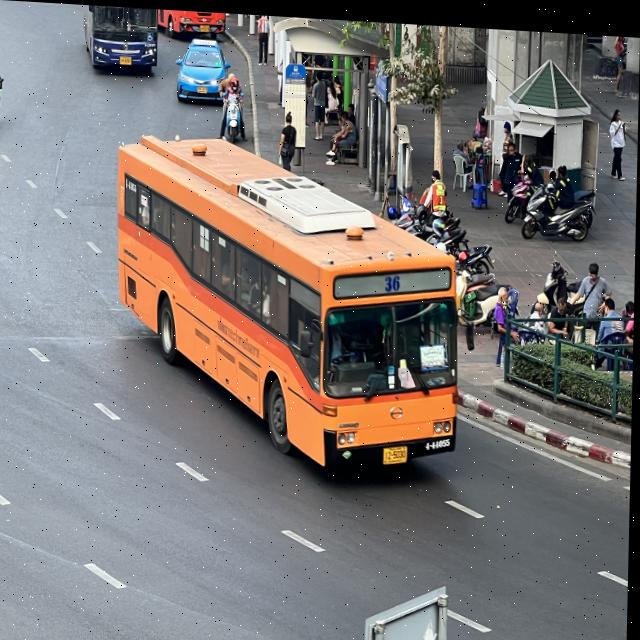BMTA-bus: (116, 135, 461, 466)
Bus Line Number: (384, 267, 406, 290)
Bus Side Number: (427, 428, 454, 447)
Destination Sign: (420, 337, 450, 367)
